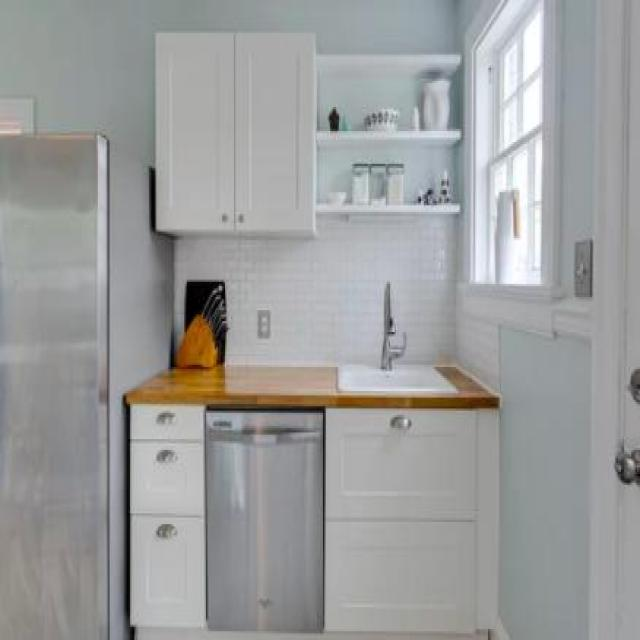dishwasher: (200, 400, 330, 633)
